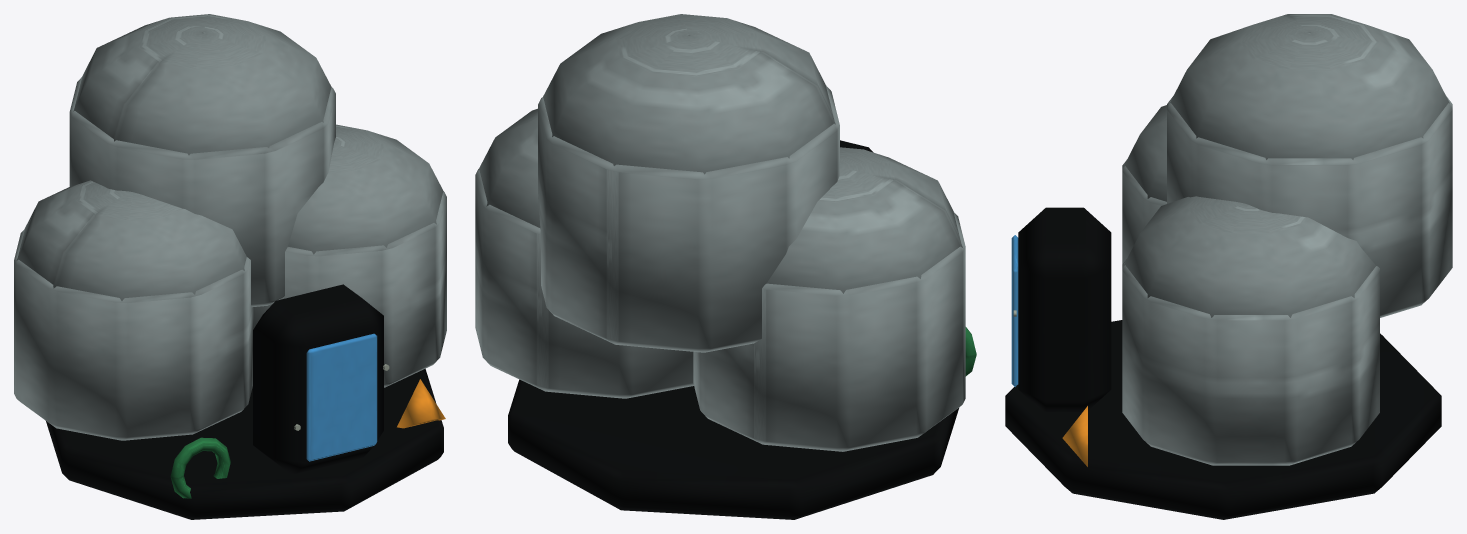
File: hive-shelter-low.glb
The picture shows the model from 3 angles, left to right: view 1: azimuth 30°, elevation 25°; view 2: azimuth 150°, elevation 25°; view 3: azimuth 270°, elevation 25°; orthographic projection. The views are drawn at different scales.
Visible parts, largest first — view 1: Hive_Cell_0.001, Hive_Dome_2.001, Hive_Foundation.001, Hive_Cell_2.001, Hive_Dome_0.001, Hive_Cell_1.001, Hive_Airlock.001, Hive_Dome_1.001, Hive_Door.001, PORT_Life.005, PORT_Power.010; view 2: Hive_Cell_2.001, Hive_Cell_0.001, Hive_Dome_2.001, Hive_Foundation.001, Hive_Cell_1.001, Hive_Dome_0.001, Hive_Dome_1.001; view 3: Hive_Cell_1.001, Hive_Dome_2.001, Hive_Foundation.001, Hive_Cell_2.001, Hive_Dome_1.001, Hive_Airlock.001, Hive_Dome_0.001, Hive_Cell_0.001, Hive_Door.001, PORT_Power.010.
Boxes of the visible parts, left/top/right/bottom form: Hive_Cell_0.001: left=14, top=229, right=254, bottom=440; Hive_Dome_2.001: left=73, top=14, right=331, bottom=155; Hive_Foundation.001: left=46, top=368, right=443, bottom=519; Hive_Cell_2.001: left=69, top=77, right=335, bottom=307; Hive_Dome_0.001: left=16, top=180, right=246, bottom=300; Hive_Cell_1.001: left=254, top=192, right=446, bottom=387; Hive_Airlock.001: left=253, top=284, right=383, bottom=473; Hive_Dome_1.001: left=288, top=124, right=444, bottom=254; Hive_Door.001: left=306, top=333, right=377, bottom=461; PORT_Life.005: left=170, top=437, right=230, bottom=498; PORT_Power.010: left=397, top=379, right=445, bottom=428; Hive_Cell_2.001: left=538, top=85, right=839, bottom=352; Hive_Cell_0.001: left=693, top=211, right=965, bottom=451; Hive_Dome_2.001: left=542, top=14, right=835, bottom=174; Hive_Foundation.001: left=508, top=379, right=958, bottom=519; Hive_Cell_1.001: left=475, top=169, right=693, bottom=398; Hive_Dome_0.001: left=766, top=147, right=962, bottom=293; Hive_Dome_1.001: left=478, top=108, right=540, bottom=227; Hive_Cell_1.001: left=1122, top=259, right=1379, bottom=465; Hive_Dome_2.001: left=1170, top=14, right=1449, bottom=159; Hive_Foundation.001: left=1005, top=320, right=1441, bottom=519; Hive_Cell_2.001: left=1167, top=96, right=1452, bottom=317; Hive_Dome_1.001: left=1123, top=196, right=1375, bottom=317; Hive_Airlock.001: left=1018, top=207, right=1111, bottom=411; Hive_Dome_0.001: left=1123, top=105, right=1166, bottom=201; Hive_Cell_0.001: left=1122, top=160, right=1166, bottom=264; Hive_Door.001: left=1011, top=235, right=1018, bottom=386; PORT_Power.010: left=1062, top=406, right=1087, bottom=466.
Bounding box in the file's own units: 1.4 × 1.27 × 1.3.
Materials: 7 (7 with a texture image).
